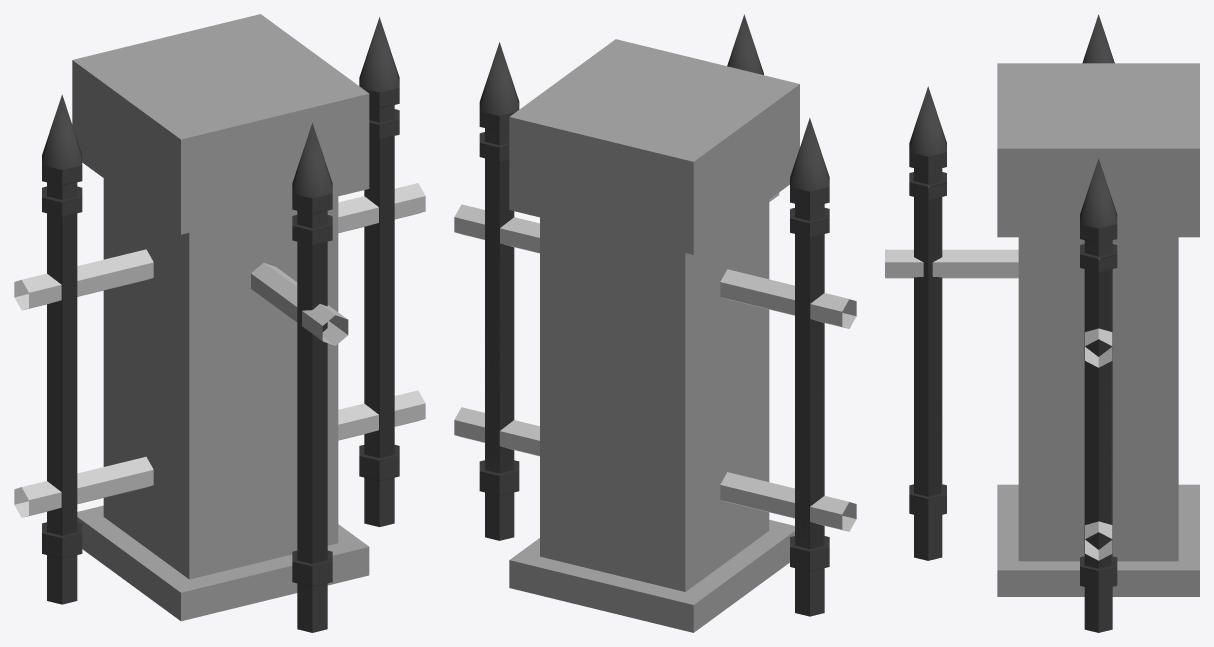
The model's file is Fence_Pillar_T.fbx.
The picture shows the model from 3 angles, left to right: view 1: azimuth 30°, elevation 25°; view 2: azimuth 150°, elevation 25°; view 3: azimuth 270°, elevation 25°; orthographic projection. The views are drawn at different scales.
Visible parts, largest first — view 1: polySurface100; view 2: polySurface100; view 3: polySurface100.
Boxes of the visible parts, <box> form: polySurface100: <box>14,14,425,632</box>; polySurface100: <box>454,14,856,632</box>; polySurface100: <box>885,14,1199,632</box>.
Bounding box in the file's own units: 100 × 121 × 73.85.
